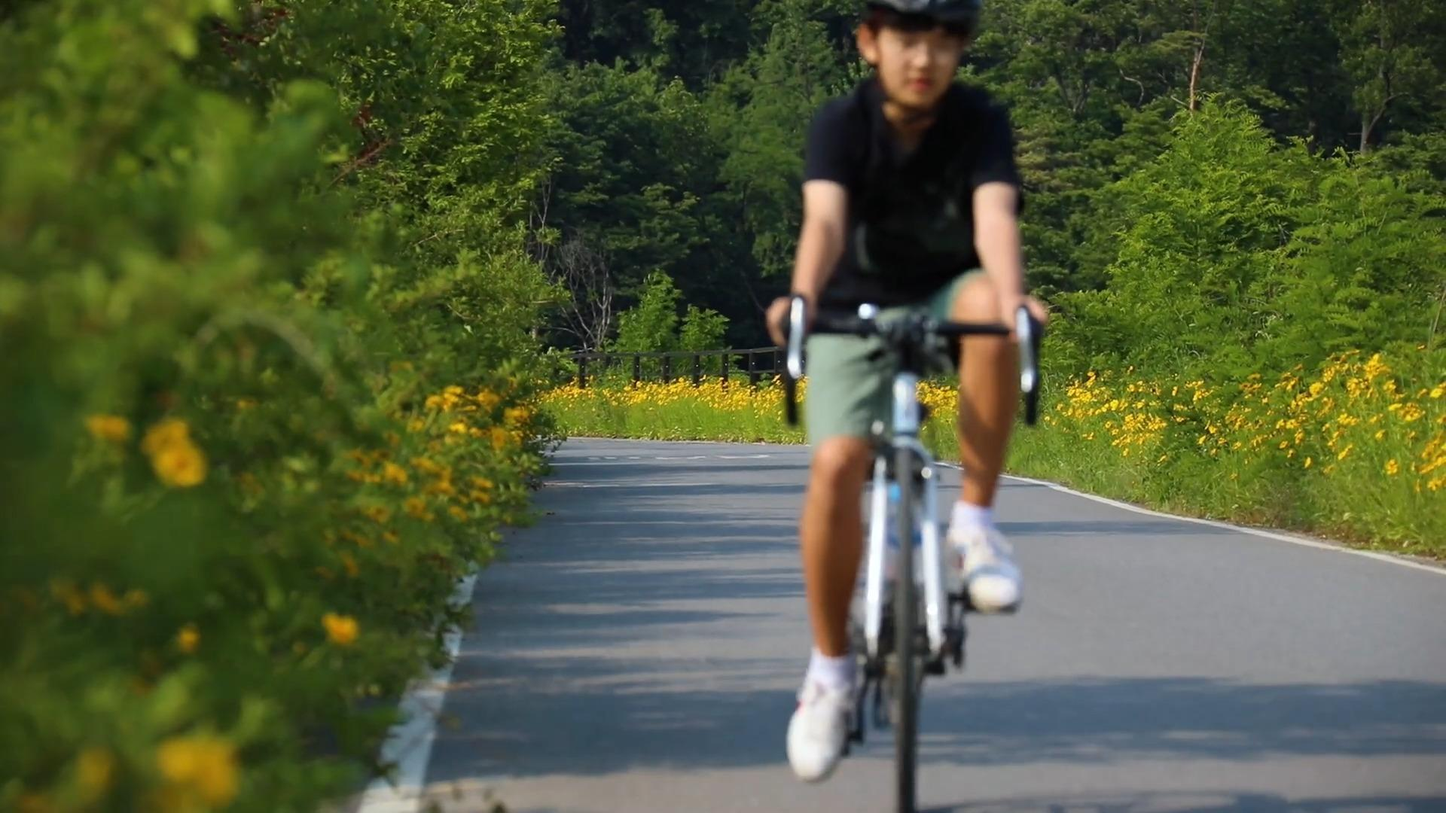bicyclist: (768, 1, 1054, 813)
